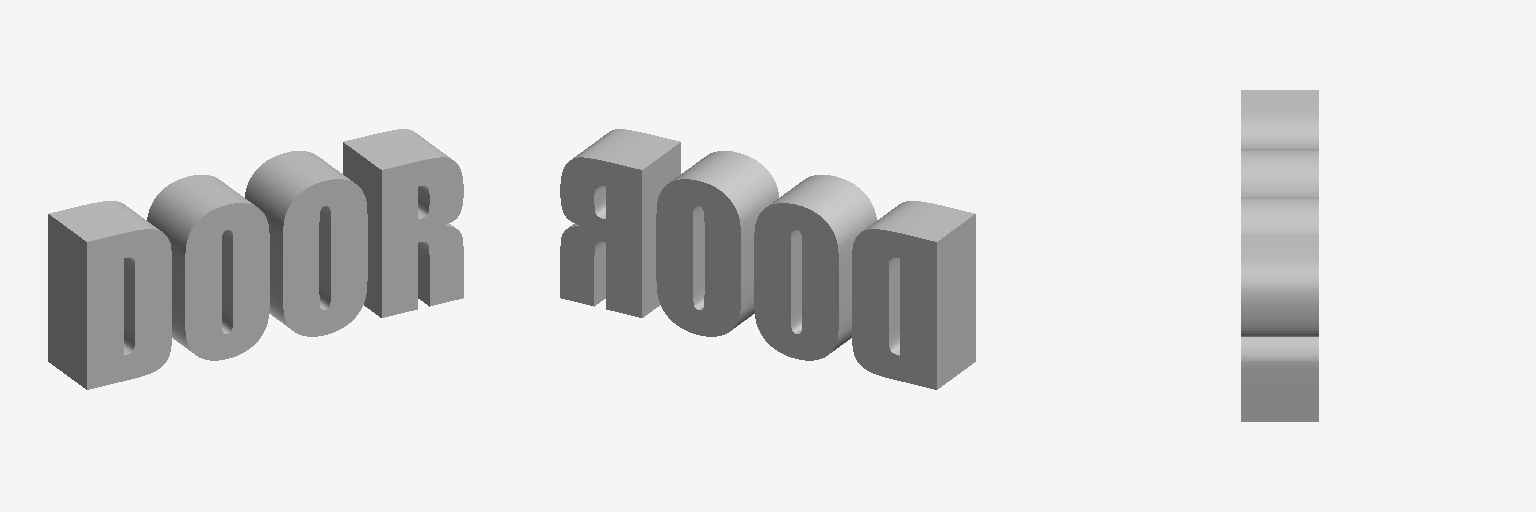
File: entry_door.obj
3 views of the same model, side by side, from view 1: azimuth 30°, elevation 25°; view 2: azimuth 150°, elevation 25°; view 3: azimuth 270°, elevation 25° (orthographic).
Parts seen in each view (by area): view 1: DOOR_Text; view 2: DOOR_Text; view 3: DOOR_Text.
Part boxes in pixels (bbox=[...]): DOOR_Text: bbox=[48, 129, 463, 389]; DOOR_Text: bbox=[560, 129, 975, 389]; DOOR_Text: bbox=[1241, 90, 1318, 421].
Bounding box in the file's own units: 1.4 × 0.5497 × 0.25.